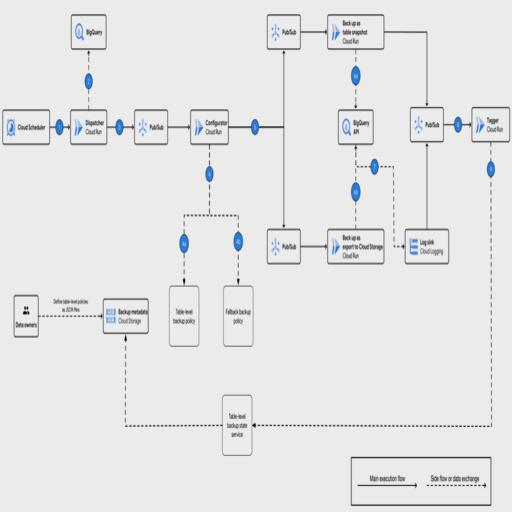actor: (12, 302, 38, 333)
compute: (326, 230, 382, 262), (326, 15, 382, 46), (2, 112, 48, 144), (220, 402, 251, 448), (66, 112, 108, 144), (190, 112, 230, 144), (474, 112, 510, 144), (133, 112, 164, 144), (266, 230, 297, 262), (266, 15, 297, 46), (410, 112, 440, 144)
data_flow: (246, 422, 482, 428), (489, 154, 494, 410), (279, 51, 284, 225), (279, 51, 284, 205), (128, 422, 220, 428), (120, 333, 126, 425), (422, 30, 428, 112), (84, 46, 90, 108), (233, 123, 269, 133), (392, 164, 396, 246), (422, 180, 428, 230), (208, 148, 212, 220), (166, 123, 192, 133), (182, 230, 187, 282), (233, 230, 238, 282), (442, 123, 468, 133), (351, 164, 356, 215), (41, 315, 92, 320), (180, 218, 240, 222), (351, 56, 356, 98), (364, 28, 404, 33), (110, 123, 126, 133), (294, 26, 310, 36), (294, 241, 310, 251), (52, 123, 66, 133), (358, 162, 390, 166)
database_storage: (169, 287, 200, 348), (220, 287, 251, 348), (100, 302, 146, 333), (336, 112, 372, 144), (69, 15, 105, 46)
network_security: (402, 230, 448, 262)
